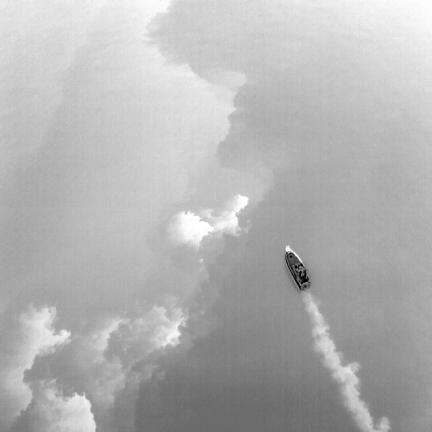flukeprints: (213, 195, 248, 235), (173, 213, 213, 247), (161, 316, 184, 345)
